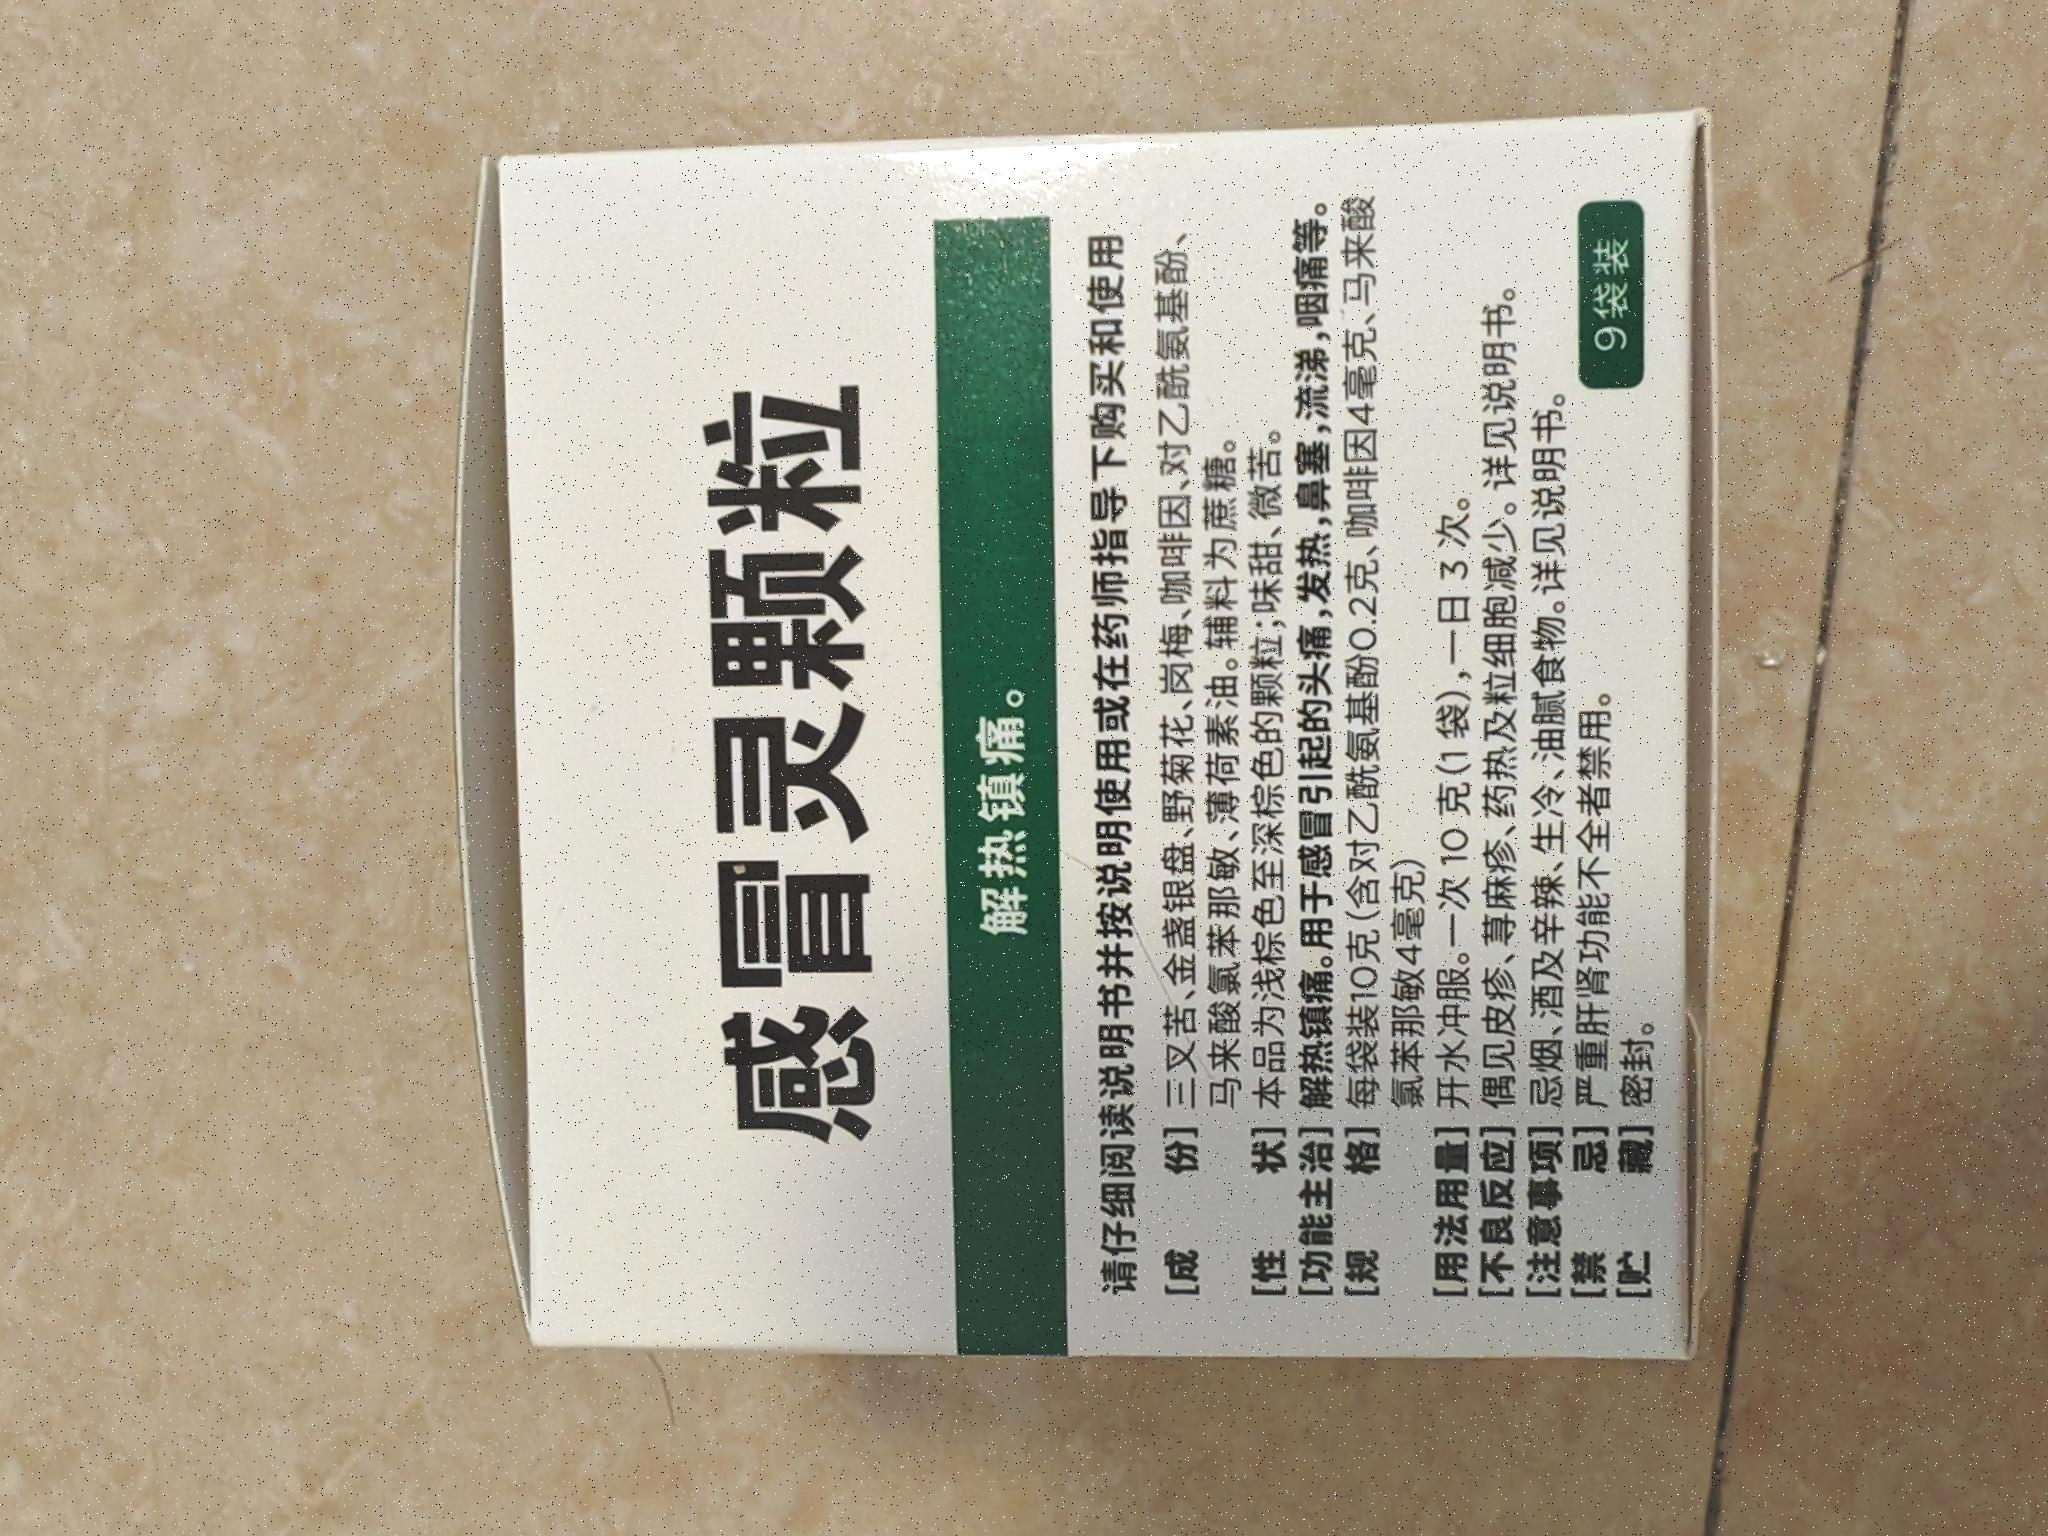Medicine3: (431, 97, 1740, 1404)
